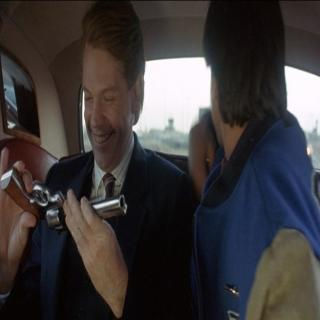gun: (0, 162, 132, 242)
